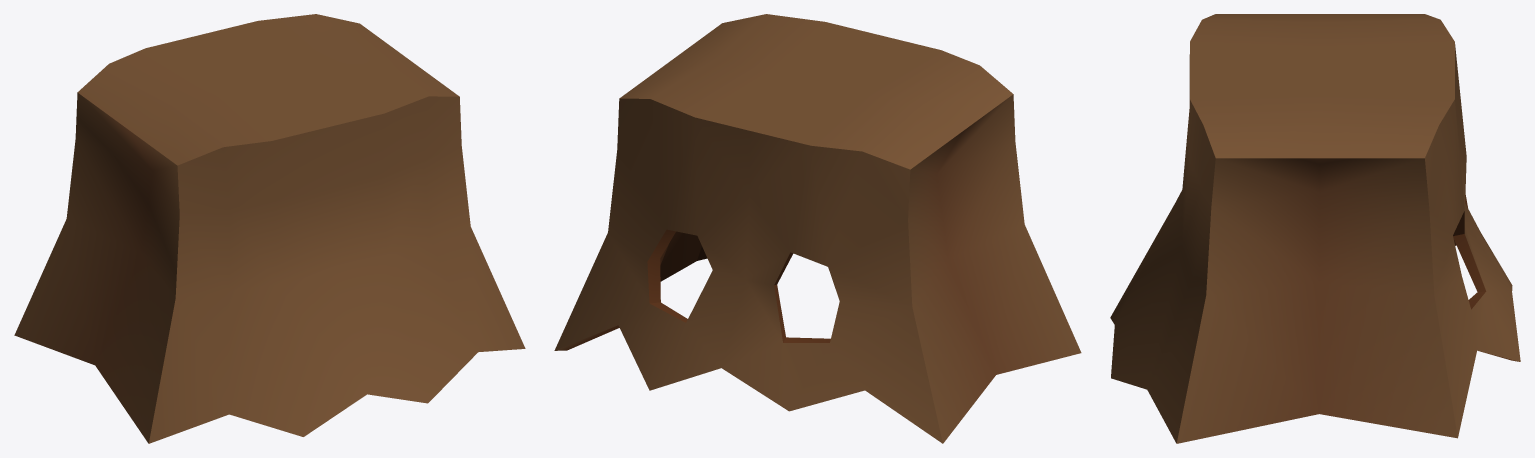
The model's file is hat_bag.glb.
The picture shows the model from 3 angles, left to right: view 1: azimuth 30°, elevation 25°; view 2: azimuth 150°, elevation 25°; view 3: azimuth 270°, elevation 25°; orthographic projection. The views are drawn at different scales.
Visible parts, largest first — view 1: hat_bag; view 2: hat_bag; view 3: hat_bag.
Part boxes in pixels (x1=…): hat_bag: x1=14, y1=14, x2=525, y2=443; hat_bag: x1=554, y1=14, x2=1081, y2=443; hat_bag: x1=1110, y1=14, x2=1520, y2=443.
Size of the model in its own units: 0.4704 by 0.3183 by 0.424.
